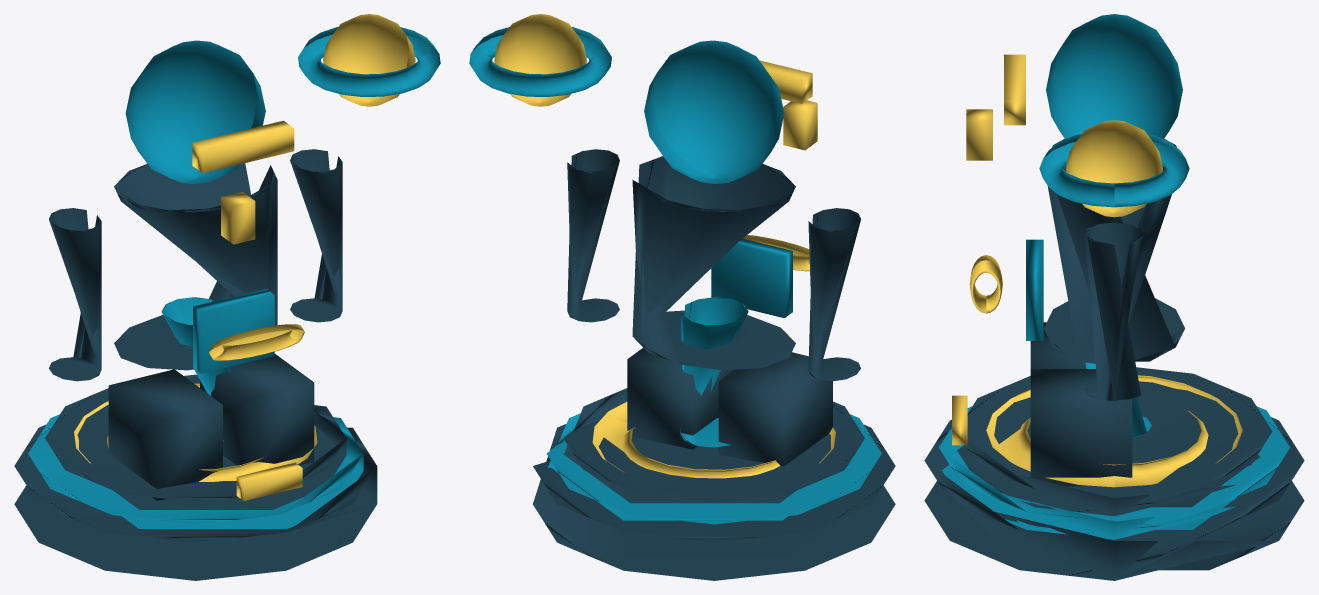
Rendered from wandering_eye.glb.
3 renders of one model, left to right at view 1: azimuth 30°, elevation 25°; view 2: azimuth 150°, elevation 25°; view 3: azimuth 270°, elevation 25°, orthographic. The views are drawn at different scales.
Visible parts, largest first — view 1: wandering_eye_#1D4051, wandering_eye_#0891B2, wandering_eye_#FCD34D; view 2: wandering_eye_#1D4051, wandering_eye_#0891B2, wandering_eye_#FCD34D; view 3: wandering_eye_#1D4051, wandering_eye_#0891B2, wandering_eye_#FCD34D.
Part boxes in pixels (x1,y1,x2,y2): wandering_eye_#1D4051: (14, 149, 377, 580); wandering_eye_#0891B2: (28, 27, 440, 528); wandering_eye_#FCD34D: (74, 14, 415, 501); wandering_eye_#1D4051: (533, 149, 895, 580); wandering_eye_#0891B2: (469, 27, 881, 524); wandering_eye_#FCD34D: (494, 14, 835, 478); wandering_eye_#1D4051: (924, 139, 1304, 580); wandering_eye_#0891B2: (939, 14, 1289, 539); wandering_eye_#FCD34D: (952, 54, 1242, 487).
Size of the model in its own units: 2.15 by 2.39 by 1.72.
